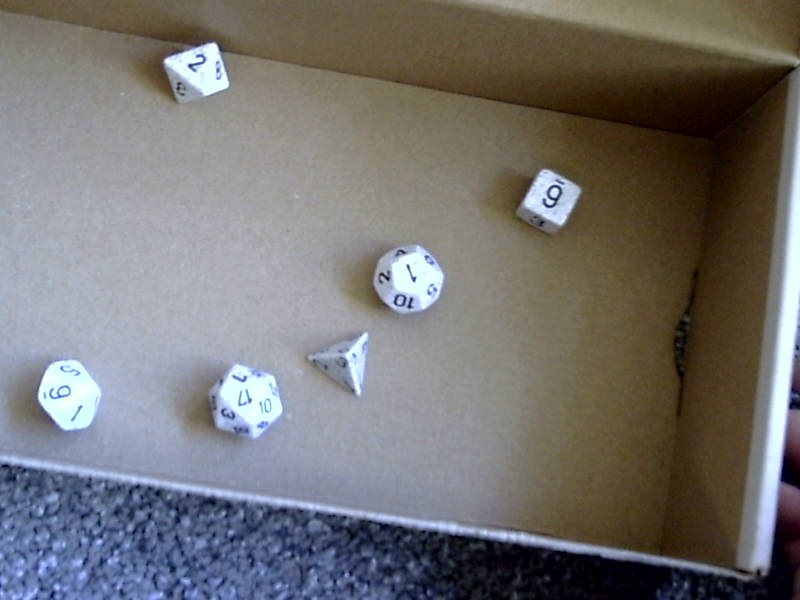d10 9: (34, 347, 104, 437)
d12 1: (369, 237, 447, 316)
d20 17: (198, 358, 287, 441)
d4 3: (304, 330, 375, 401)
d6 6: (514, 162, 582, 240)
d8 2: (156, 36, 237, 114)
